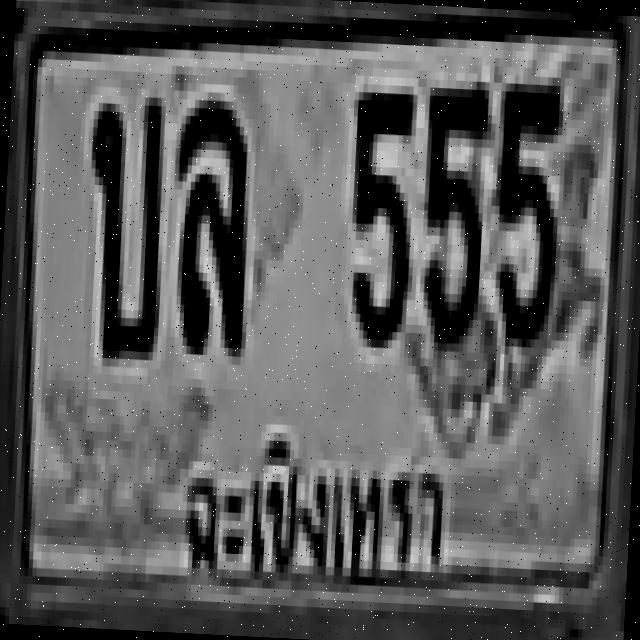35BorBaiMai: (77, 86, 166, 352)
45LorLing: (168, 90, 252, 348)
5: (413, 74, 490, 348), (486, 74, 563, 348), (342, 84, 414, 340)
Chachoengsao: (172, 416, 464, 598)
